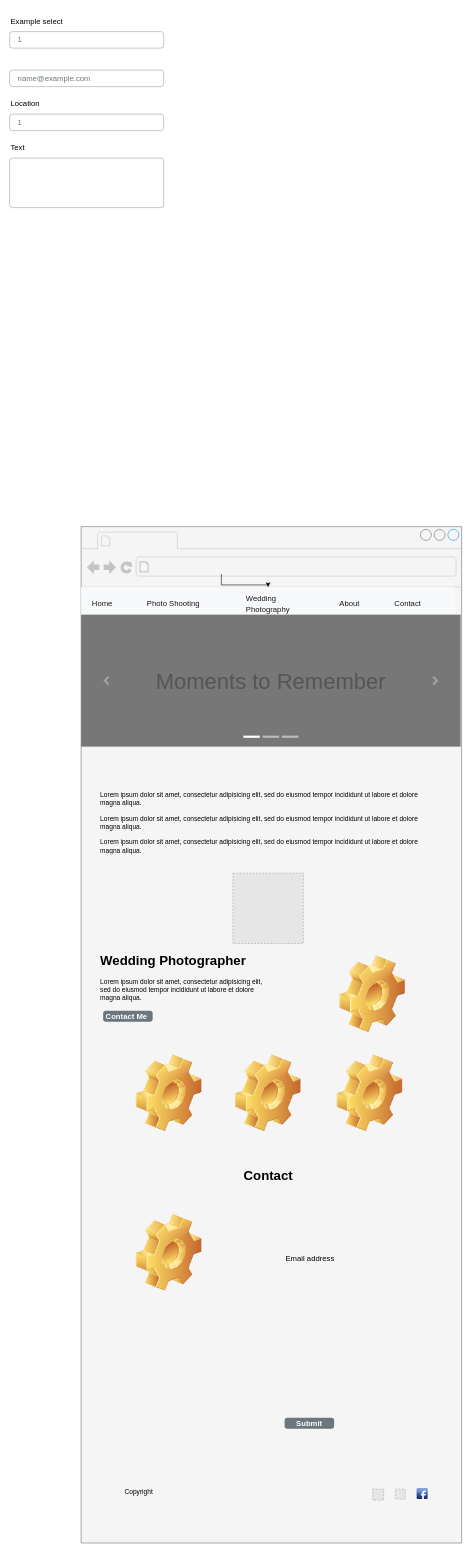
Some shapes in this 471 by 1553 pixel diagram are drawn without their labels. Grey dashed boxes stand in for pictures. Each missing label, with the centre of its shape:
https://www.wedding-site.io: (221,566)
Page 1: (144,540)
